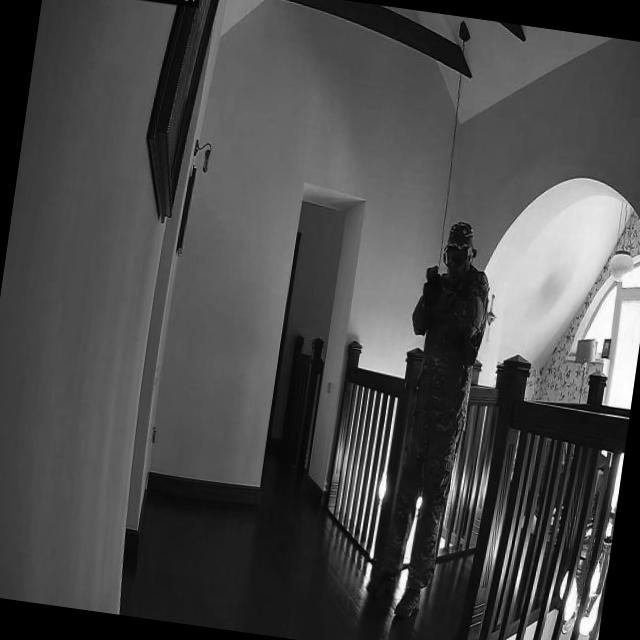gun: (424, 263, 441, 290)
person with a gun: (362, 214, 498, 628)
